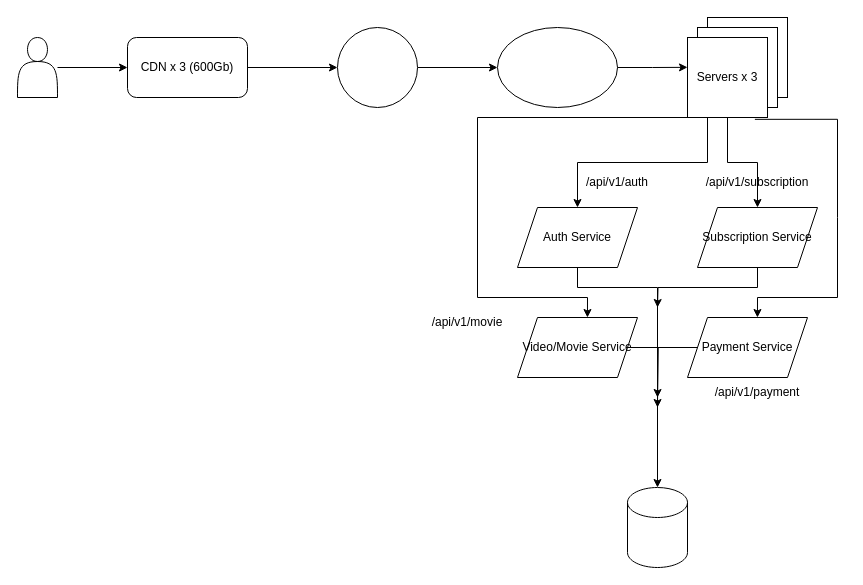
Image size: 863x585. Some labels were removed from this diagram. The shapes that lost their labels are listed below. From the top down, each one's box as (x1, y1, x2, y2) in pixels, then its label:
(336, 26, 418, 108): Load Balancer
(496, 26, 618, 108): API Gateway
(626, 486, 688, 568): DB(1Tb)
